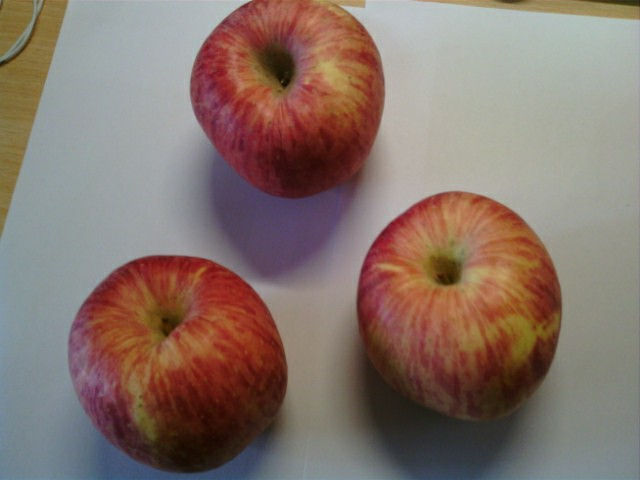normal_apple: (67, 251, 289, 475), (356, 192, 563, 420), (189, 3, 386, 198)
